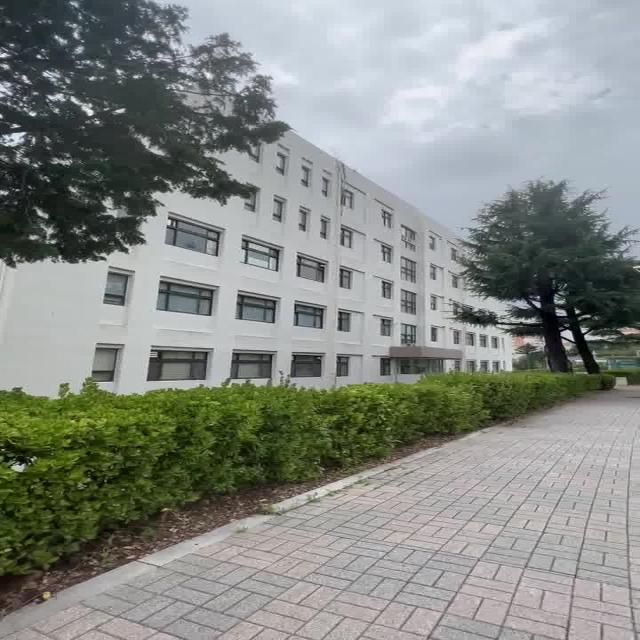building: (228, 152, 436, 367)
